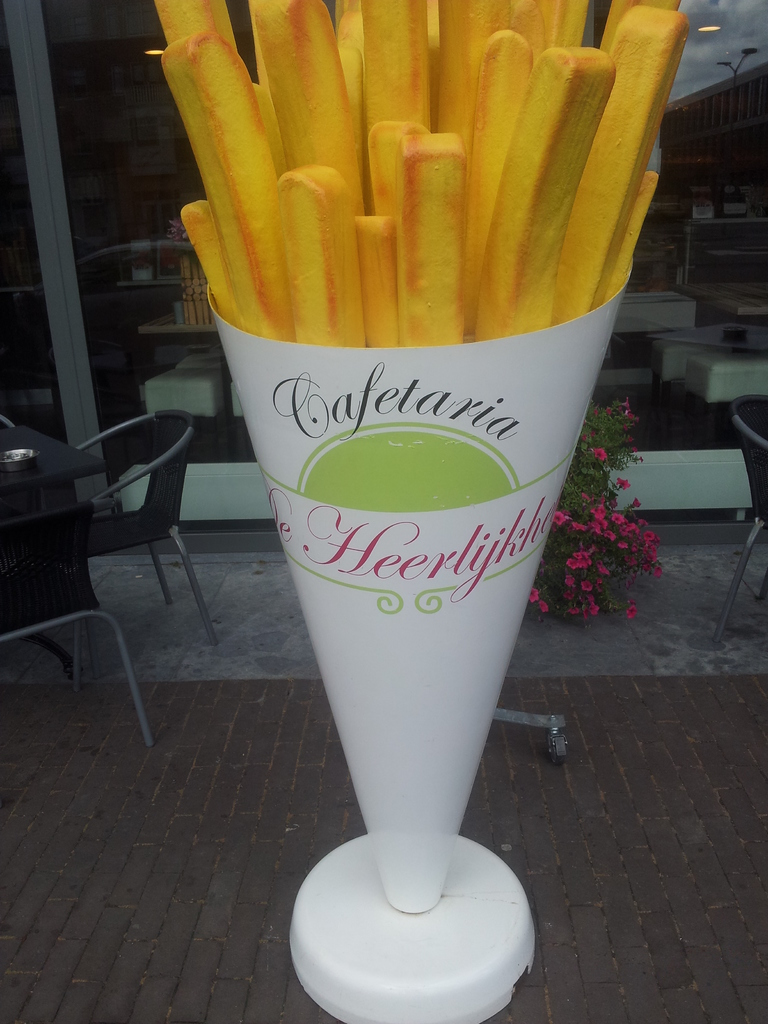French fries: (136, 0, 689, 359)
